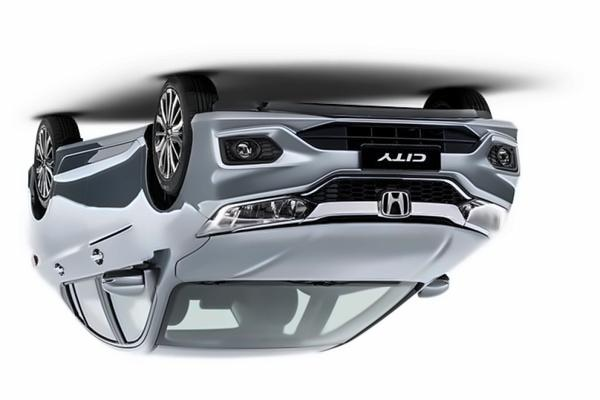Car hood: (173, 223, 492, 288)
Fender - -F-L-: (133, 126, 209, 290)
Fender - -R-L-: (26, 146, 65, 282)
Front bumper: (182, 96, 523, 221)
Headlight - -L-: (195, 193, 321, 238)
Headlight - -R-: (459, 196, 511, 239)
Passenger-s door - -F-L-: (77, 112, 163, 363)
Passenger-s door - -R-L-: (44, 124, 126, 358)
Side bumper - -L-: (49, 112, 155, 186)
Side mirror - -L-: (102, 261, 153, 299)
Side mirror - -R-: (417, 269, 454, 303)
